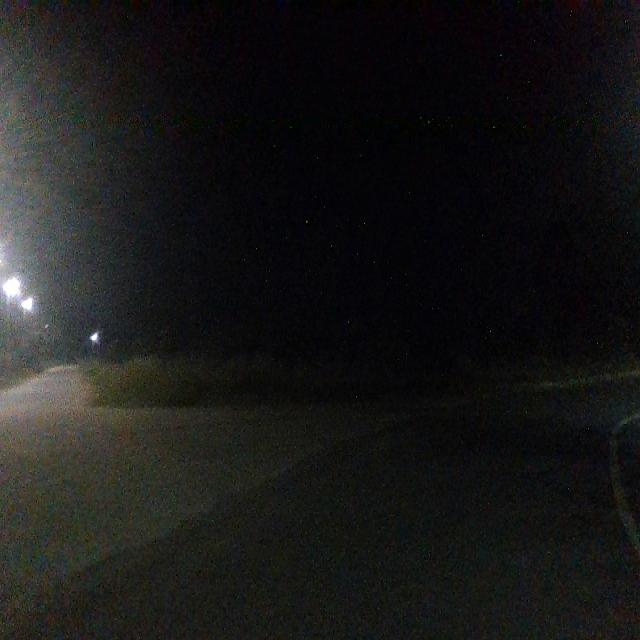lane: (0, 378, 640, 640)
